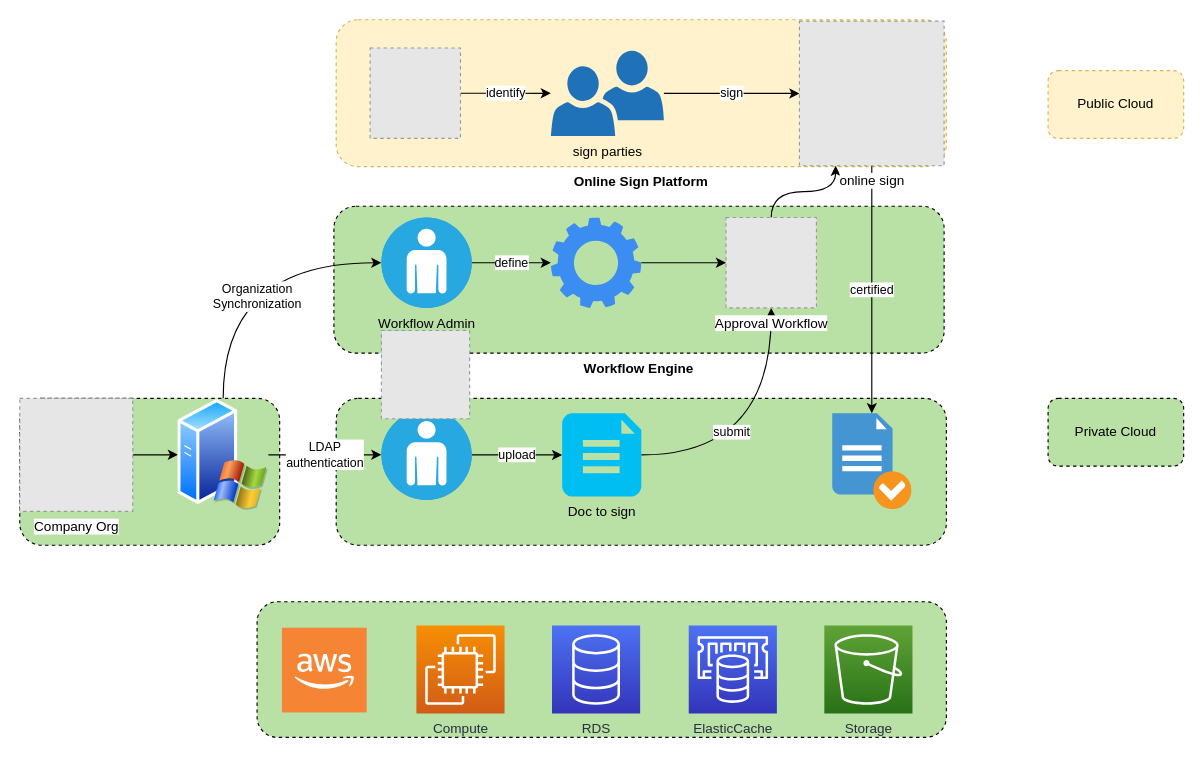
The diagram is 1203 pixels wide and 781 high, and some of its shapes have lost their labels. Grey dashed boxes stand in for pictures. Each missing label, with the box of its shape:
AD: (19, 397, 280, 545)
AWS Infrastructure: (256, 601, 946, 737)
Contract Management: (335, 397, 946, 545)
Doc signed: (832, 413, 911, 509)
Microsoft AD: (177, 398, 268, 511)
User: (380, 408, 472, 500)
Workflow Template: (550, 217, 641, 307)
